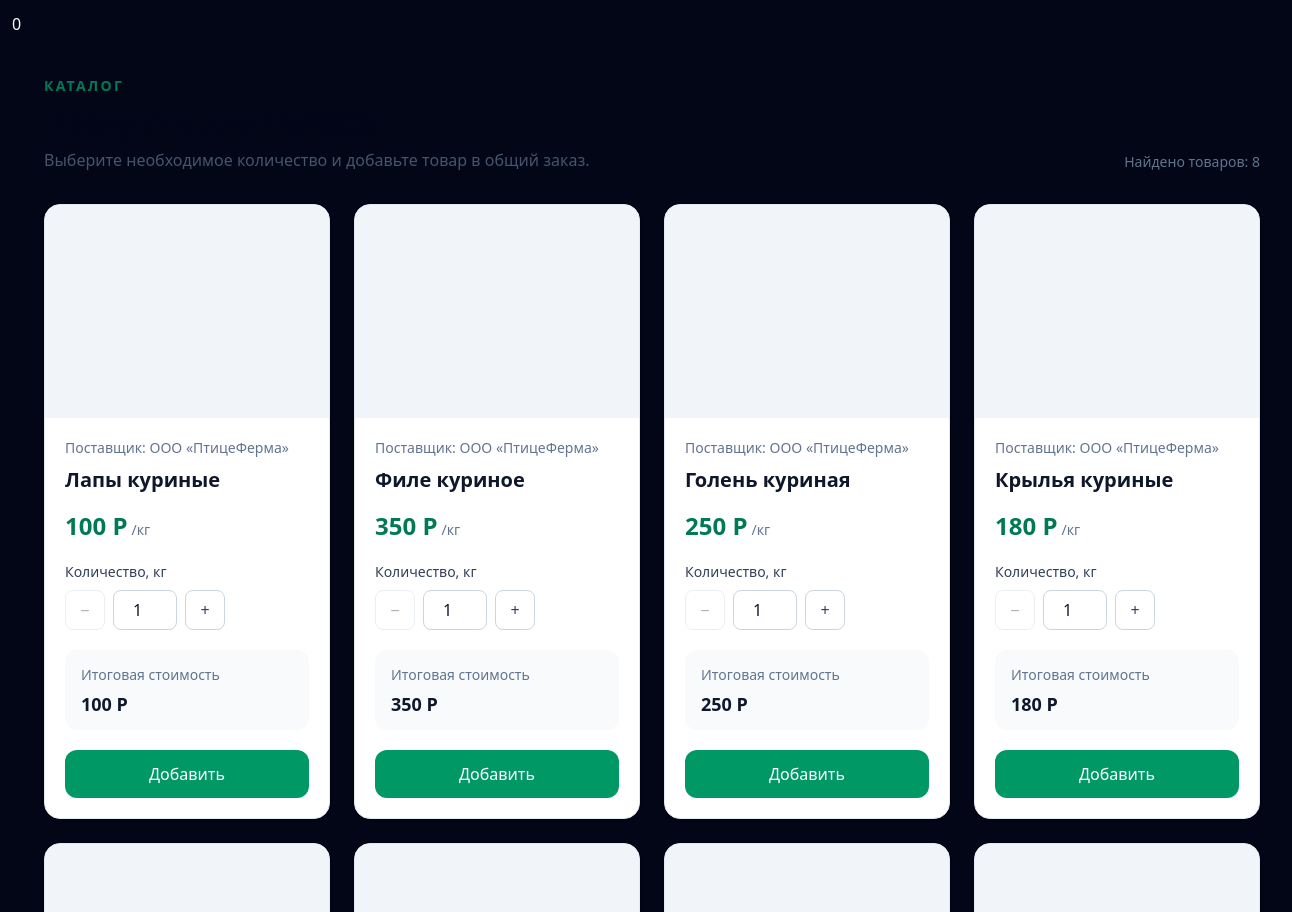
Test: ProductCatalog › добавляет выбранное количество в общую корзину
Check: the element "Филе куриное" is shown, box [354,204,640,819]
Check: the number field named "Количество" below "Филе куриное" holds "1", box [423,590,487,630]
Click the button named "Увеличить количество" at (515, 610), box [495,590,535,630]
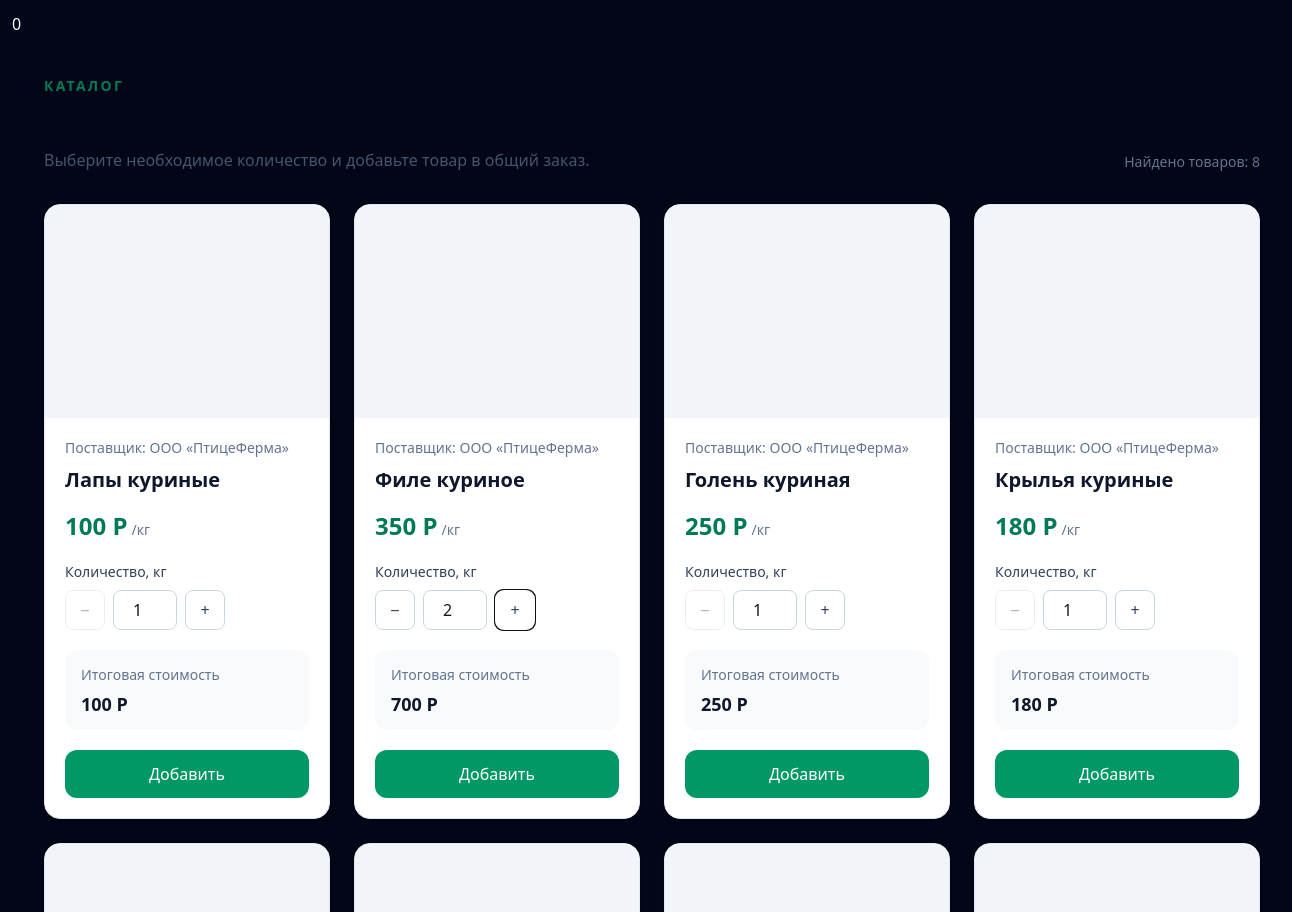
Click the button named "Увеличить количество" at (515, 610), box [495,590,535,630]
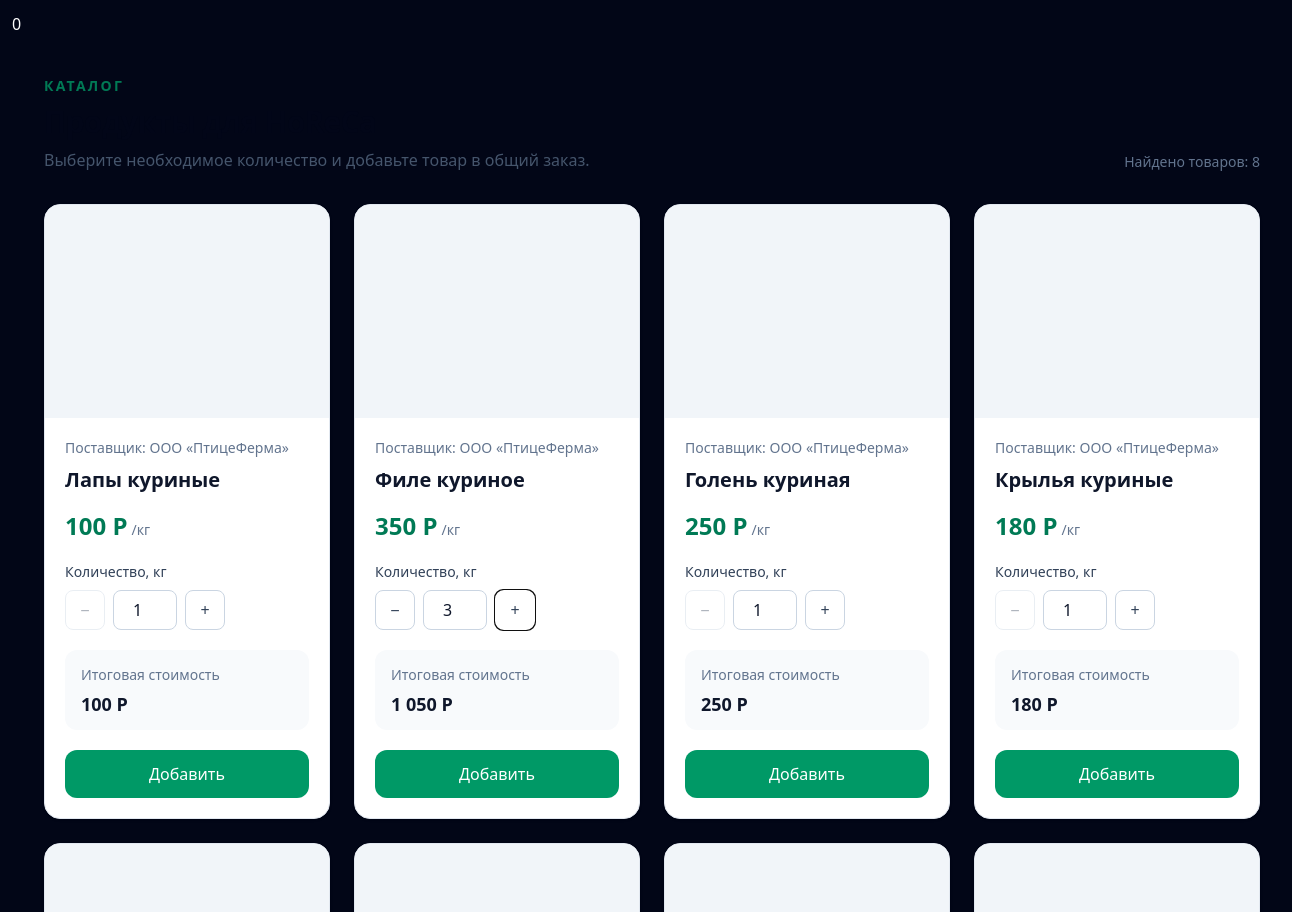
Check: the number field named "Количество" below "350" holds "3", box [423,590,487,630]
Check: the text "1 050 Р" is shown, box [391,692,453,716]
Click the button "Добавить" below "1 050" at (497, 774), box [375,750,619,798]
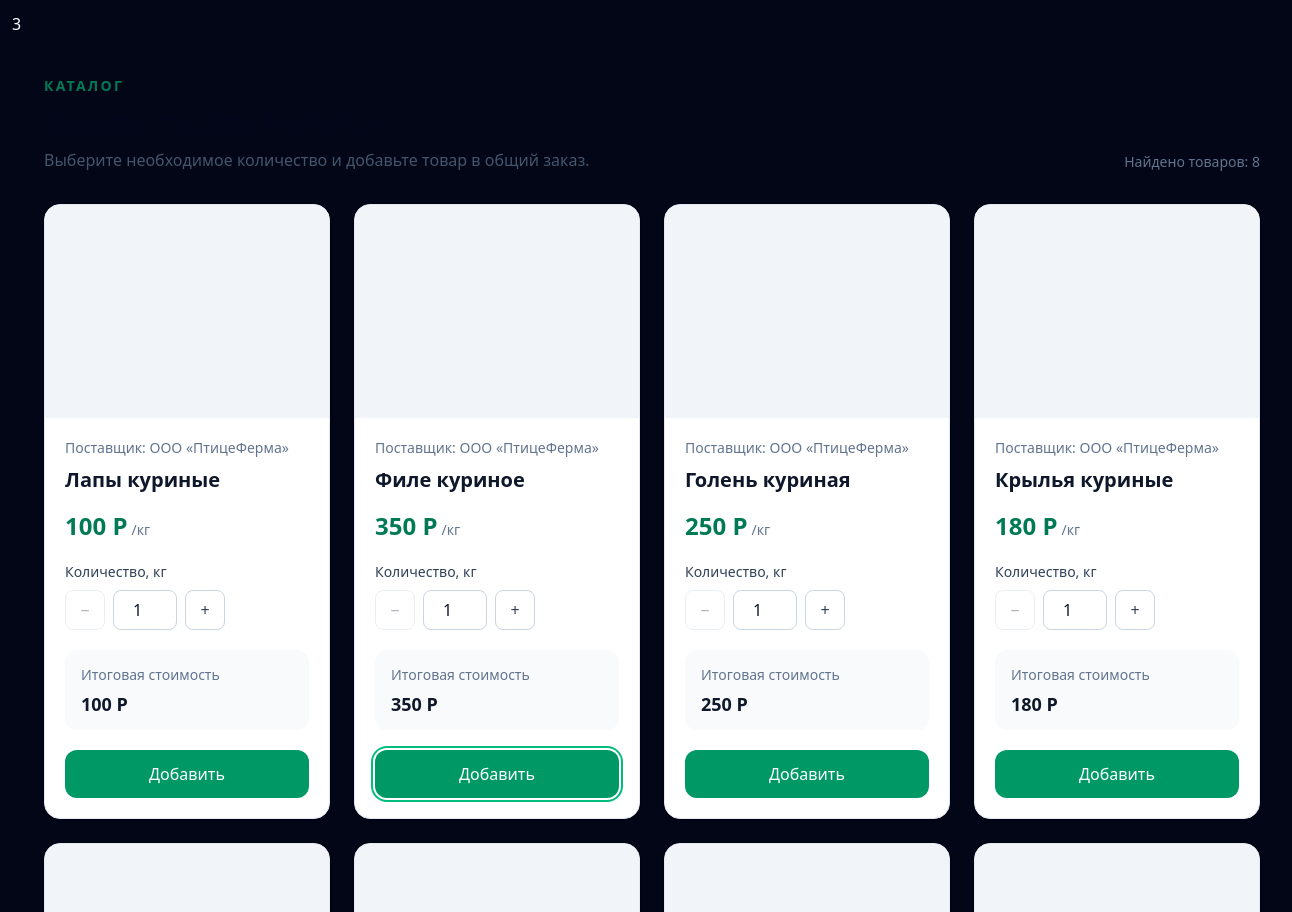
Check: the text with test id "cart-total" reads "3", box [12,13,21,35]
Check: the number field named "Количество" below "Филе куриное" holds "1", box [423,590,487,630]
